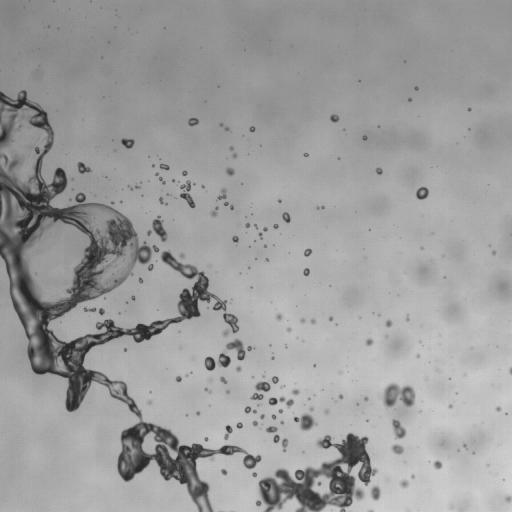droplet: (382, 383, 415, 407), (147, 216, 167, 241), (294, 413, 317, 430), (251, 381, 270, 399), (392, 419, 406, 439), (370, 485, 380, 500), (416, 187, 428, 199), (77, 162, 90, 173), (121, 138, 134, 148), (391, 444, 403, 454), (218, 188, 226, 199), (282, 212, 290, 223), (244, 406, 256, 413), (433, 460, 442, 469), (188, 118, 198, 126), (400, 479, 408, 488), (330, 114, 338, 122), (211, 207, 218, 216), (226, 168, 234, 175), (304, 248, 311, 256), (160, 164, 169, 170), (385, 320, 392, 327), (271, 376, 278, 383), (303, 268, 309, 276), (291, 389, 299, 395), (159, 197, 165, 204), (232, 236, 238, 243), (276, 313, 282, 320), (366, 338, 372, 345), (505, 495, 511, 502), (376, 168, 382, 174), (98, 308, 104, 314), (220, 377, 226, 383), (237, 422, 243, 428), (221, 469, 227, 475), (179, 253, 185, 258), (236, 366, 241, 371), (176, 376, 181, 381), (496, 406, 501, 411), (252, 421, 257, 426), (249, 127, 255, 131), (258, 232, 262, 238), (182, 171, 187, 175), (273, 224, 278, 228), (328, 316, 333, 320), (286, 327, 291, 331), (252, 472, 256, 477), (414, 86, 418, 90), (362, 136, 366, 140), (229, 146, 233, 150), (232, 153, 236, 157), (245, 223, 249, 227), (263, 227, 267, 231), (311, 319, 315, 323), (339, 395, 343, 399), (364, 397, 368, 401), (309, 407, 313, 411), (278, 409, 282, 413), (260, 414, 264, 418), (406, 315, 409, 320), (304, 153, 308, 156), (134, 185, 138, 188), (230, 205, 233, 209), (254, 224, 257, 228), (139, 278, 142, 282), (300, 319, 304, 322), (448, 405, 452, 408), (325, 409, 328, 413), (204, 437, 208, 440), (463, 444, 466, 448), (408, 98, 411, 101), (468, 108, 471, 111), (225, 127, 228, 130), (129, 186, 132, 189), (492, 251, 495, 254), (131, 296, 134, 299), (416, 354, 419, 357), (281, 385, 284, 388), (148, 401, 151, 404), (272, 415, 275, 418), (320, 206, 324, 208), (220, 123, 222, 126), (278, 199, 280, 202), (225, 202, 227, 205), (196, 412, 199, 414), (280, 421, 283, 423), (411, 475, 414, 477), (202, 185, 204, 187), (266, 258, 268, 260)
ligament: (0, 91, 261, 511), (256, 432, 377, 511), (204, 338, 252, 370), (180, 180, 195, 207), (268, 396, 293, 408), (266, 426, 279, 442), (224, 425, 232, 439), (155, 173, 164, 183), (282, 438, 288, 451), (83, 307, 95, 311), (204, 388, 210, 392), (509, 367, 511, 374), (369, 510, 373, 511)
